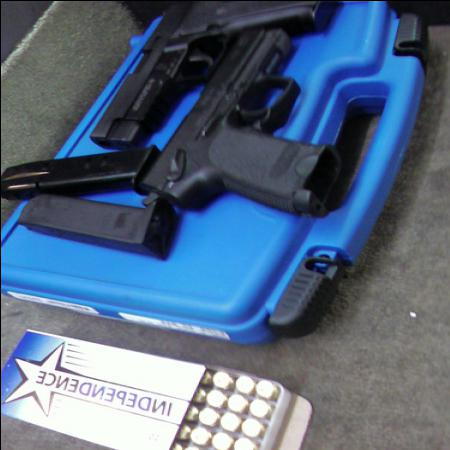Pistol: (144, 23, 343, 222)
